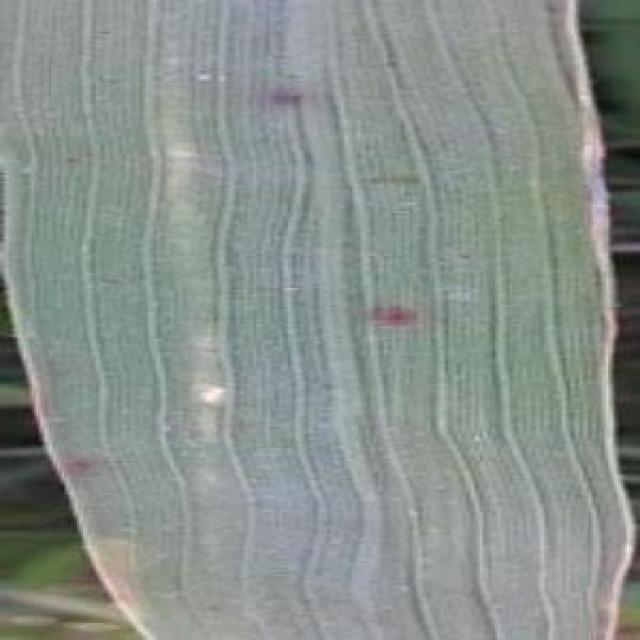Brown_Spot: (366, 300, 424, 338), (267, 72, 304, 116)
